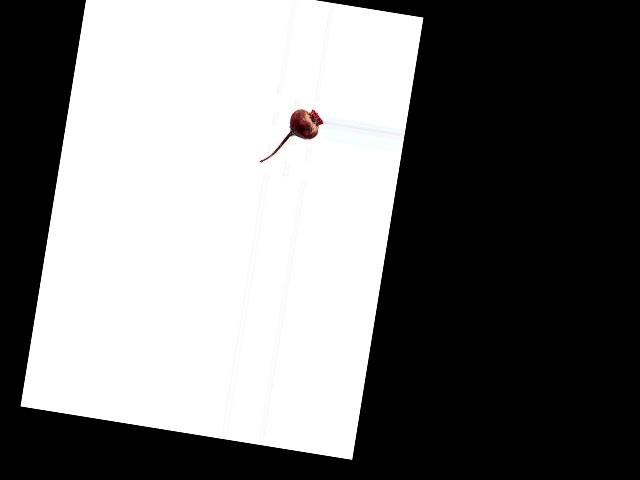beet: (259, 103, 324, 171)
